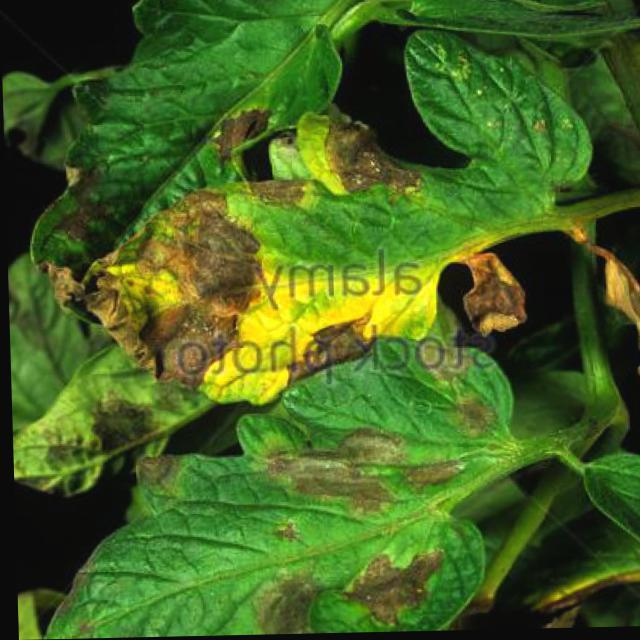Tomato mosaic virus leaf: (44, 41, 600, 412), (53, 333, 556, 638)
